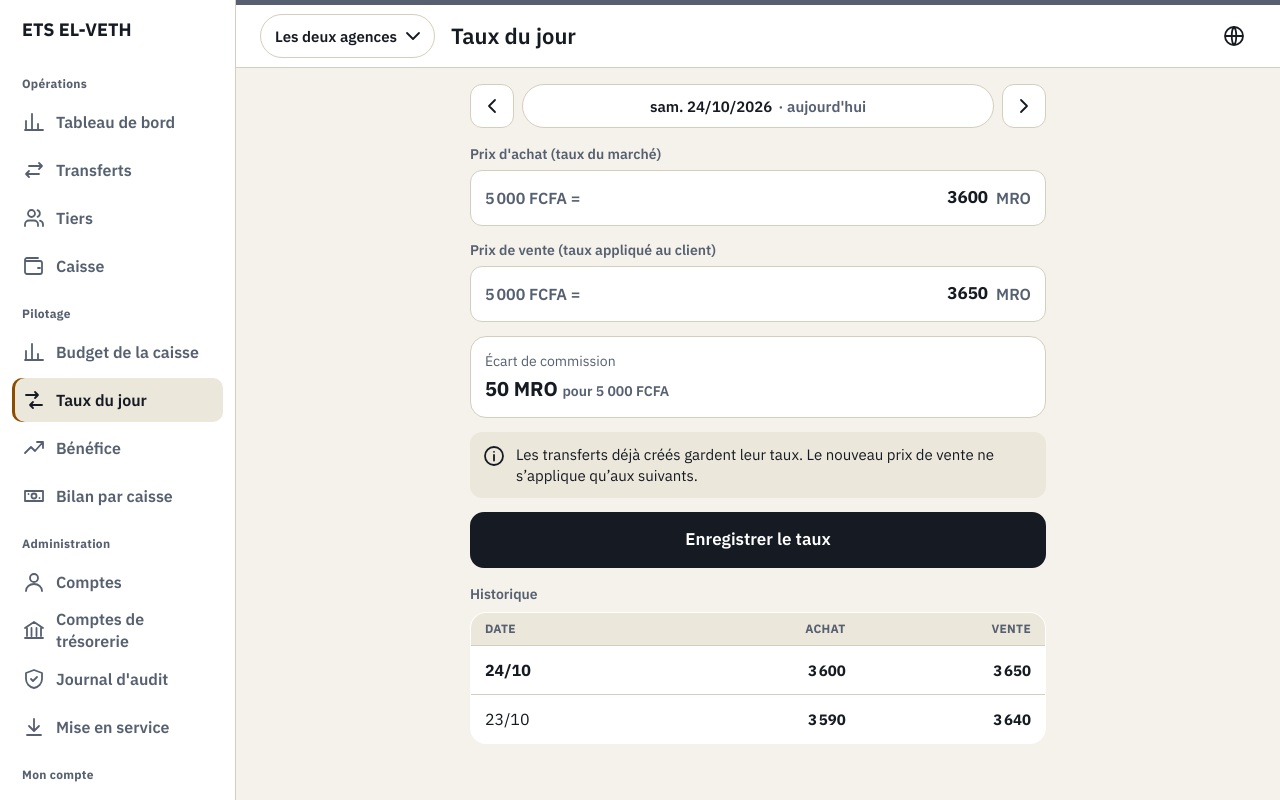
Taux du jour — Superviseur › change de jour avec les flèches et garde la date dans l’adresse
expect the field labelled "Prix de vente (taux appliqué au client)" holds "3650": met, box x1=588 y1=268 x2=988 y2=320
Click the button named "Jour précédent": (492, 106) x1=470 y1=84 x2=514 y2=128
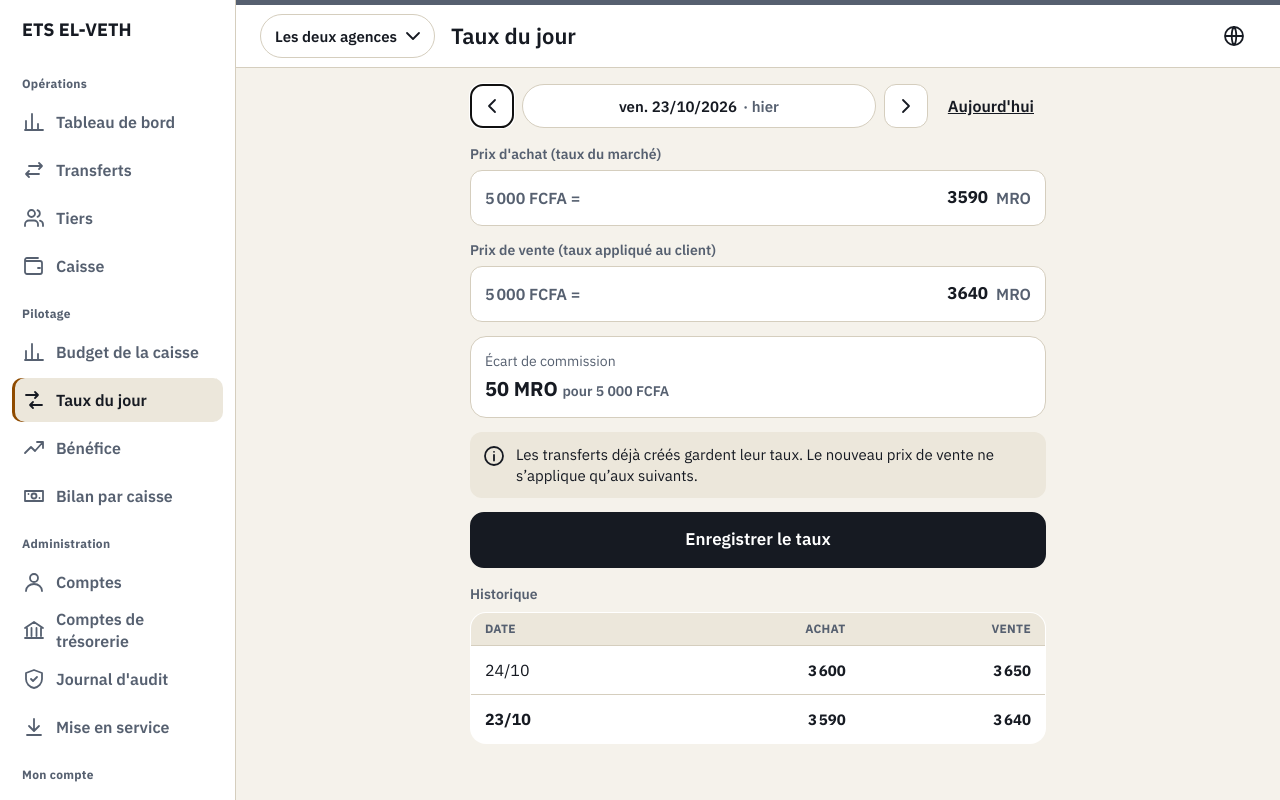
expect the field labelled "Prix de vente (taux appliqué au client)" holds "3640": met, box x1=588 y1=268 x2=988 y2=320
expect the text "· hier" is shown: met, box x1=743 y1=96 x2=779 y2=116
